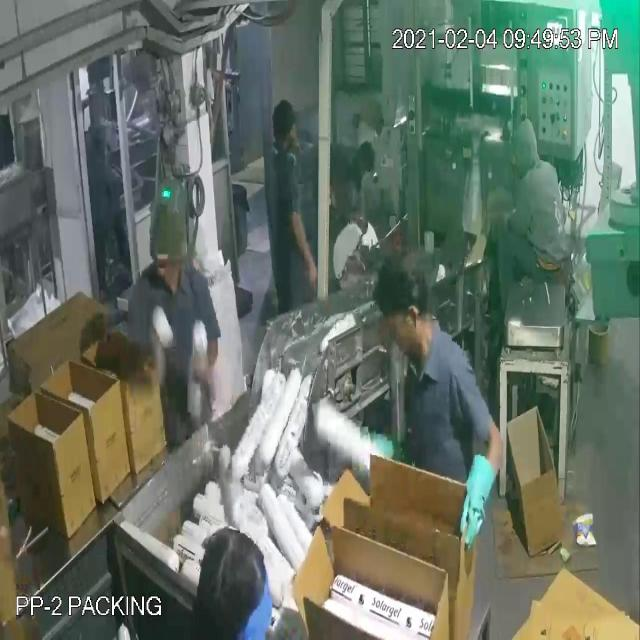gloves: (457, 436, 499, 564)
no-gloves: (287, 199, 321, 297)
